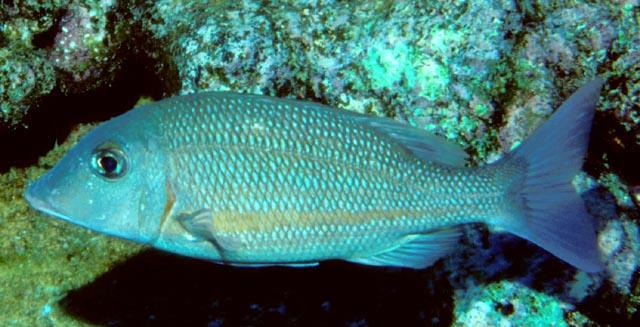Mulut: (12, 158, 68, 232)
Sirip Anal: (339, 221, 465, 280)
Sirip Dada: (168, 192, 230, 265)
Sirip Ekor: (490, 63, 614, 286)
Sirip Perut: (232, 250, 332, 282)
Sirip Punggung: (338, 98, 474, 180)
